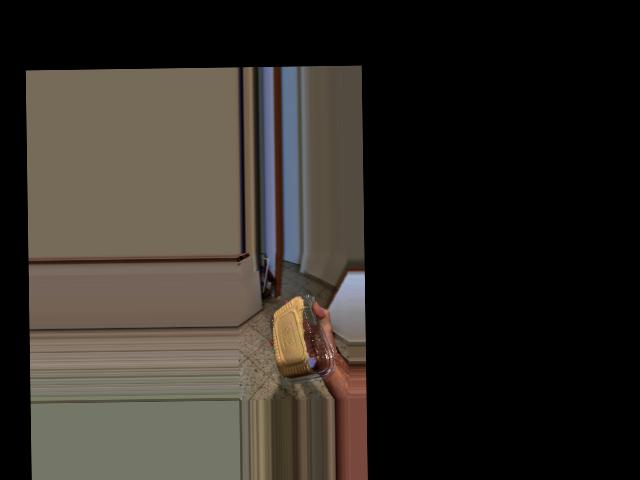cheese: (280, 313, 318, 388)
